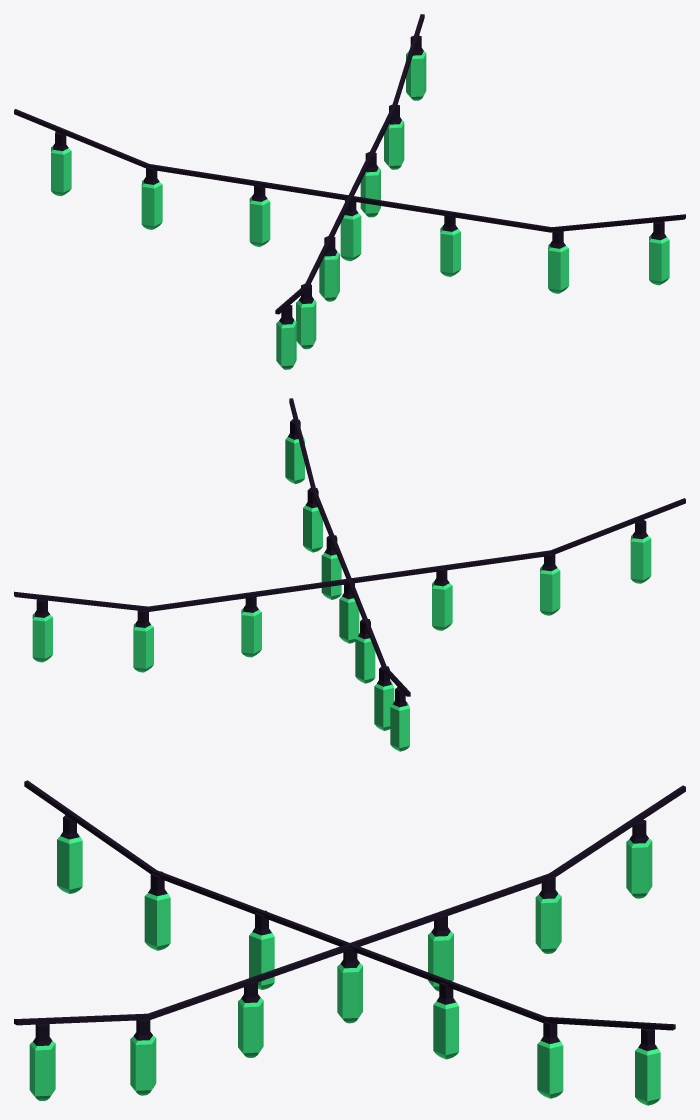
The model's file is StringLights_AlleyDiagonal.fbx.
3 renders of one model, top to bottom at view 1: azimuth 30°, elevation 25°; view 2: azimuth 150°, elevation 25°; view 3: azimuth 270°, elevation 25°, orthographic. The views are drawn at different scales.
Parts seen in each view (by area): view 1: String Lights.004; view 2: String Lights.004; view 3: String Lights.004.
Boxes of the visible parts, box(x1,y1,x2,y2) form: String Lights.004: box(14, 14, 685, 369); String Lights.004: box(14, 398, 685, 751); String Lights.004: box(14, 780, 685, 1105).
Size of the model in its own units: 189 by 42.65 by 218.
